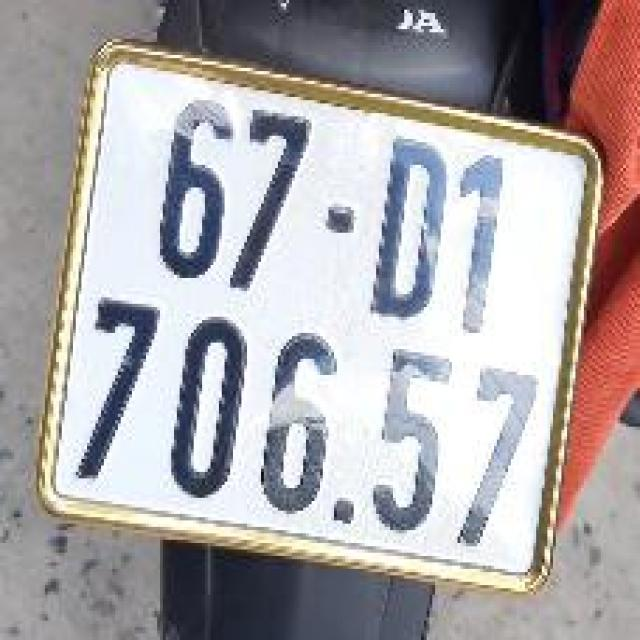0: (159, 304, 258, 517)
1: (441, 145, 513, 350)
5: (359, 338, 462, 544)
6: (143, 87, 244, 295), (251, 318, 348, 530)
7: (66, 282, 167, 497), (220, 101, 321, 306), (447, 357, 547, 564)
D: (361, 123, 458, 336)
